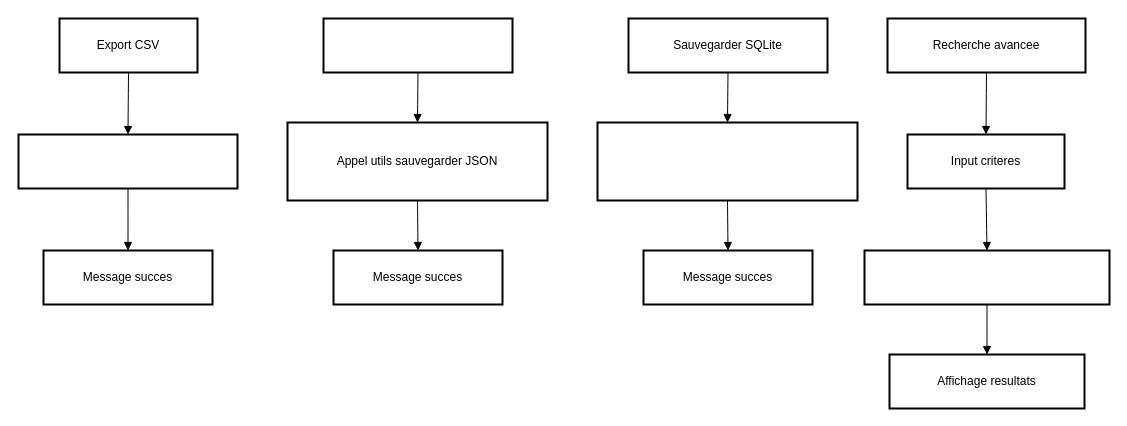
Some shapes in this 1127 by 426 pixel diagram are drawn without their labels. The shapes that lost their labels are listed below. From the top down, each one's centre as x and y in pixels, then its label:
At point 417,45: "Sauvegarder JSON".
At point 127,161: "Appel utils export CSV".
At point 727,161: "Appel utils sauvegarder SQLite".
At point 986,277: "Appel recherche_avancee".
